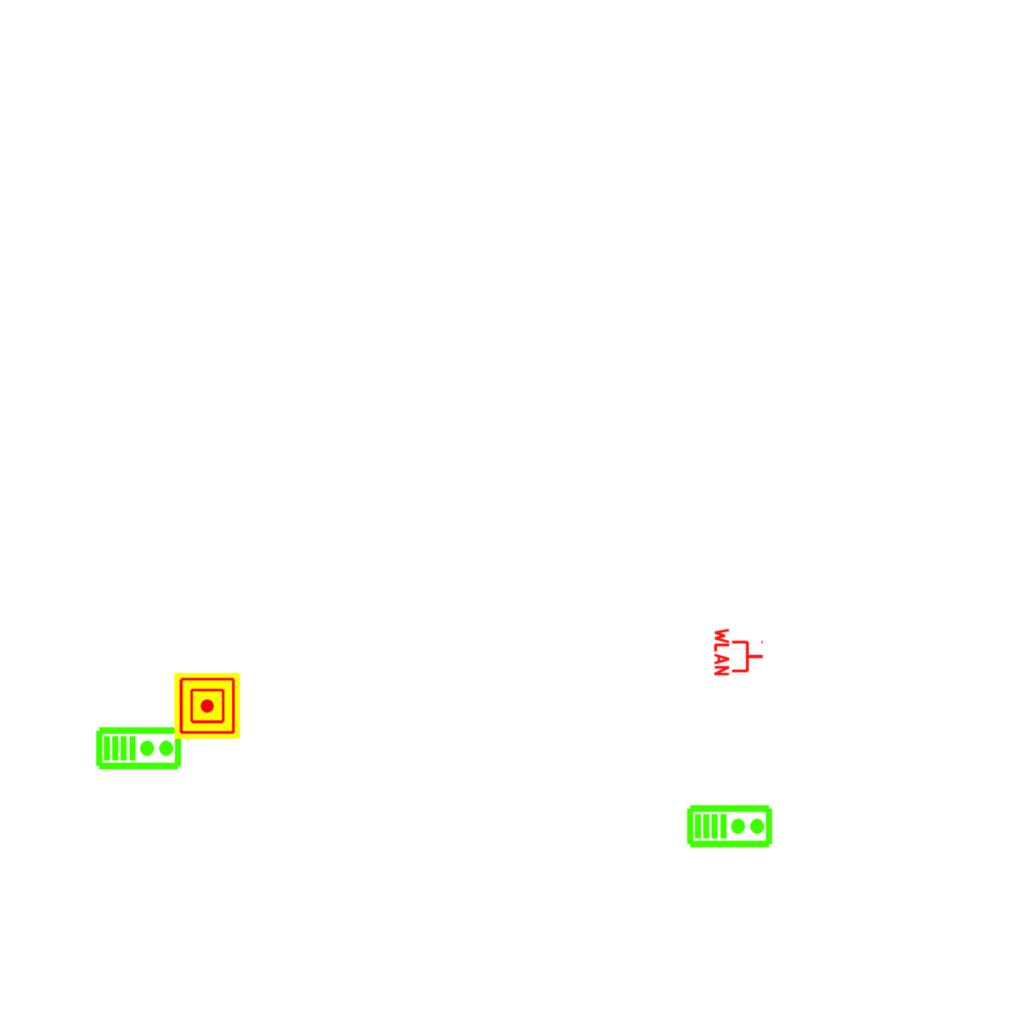Gegensprechanlage_mit_Video: (95, 724, 183, 771), (686, 802, 774, 849)
NAM-Nichtautomatischer_Melder: (174, 673, 240, 739)
WLAN: (713, 626, 765, 678)
